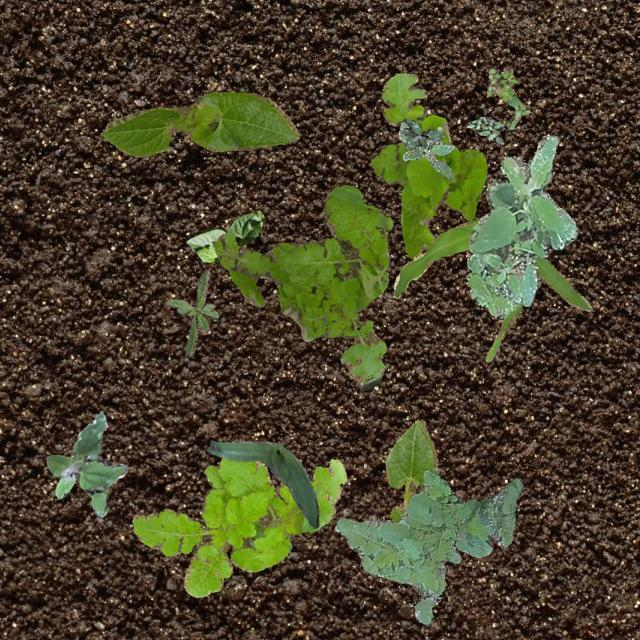crop: (392, 218, 592, 360), (100, 90, 298, 156), (205, 440, 318, 528), (384, 418, 436, 522), (185, 210, 262, 262)
weed: (210, 184, 392, 390), (132, 456, 346, 596), (334, 469, 522, 624), (370, 72, 486, 258), (468, 134, 576, 306), (46, 409, 128, 516), (162, 268, 218, 356), (466, 250, 520, 318), (398, 120, 454, 178), (486, 65, 528, 128), (402, 120, 442, 148), (467, 116, 503, 144)
